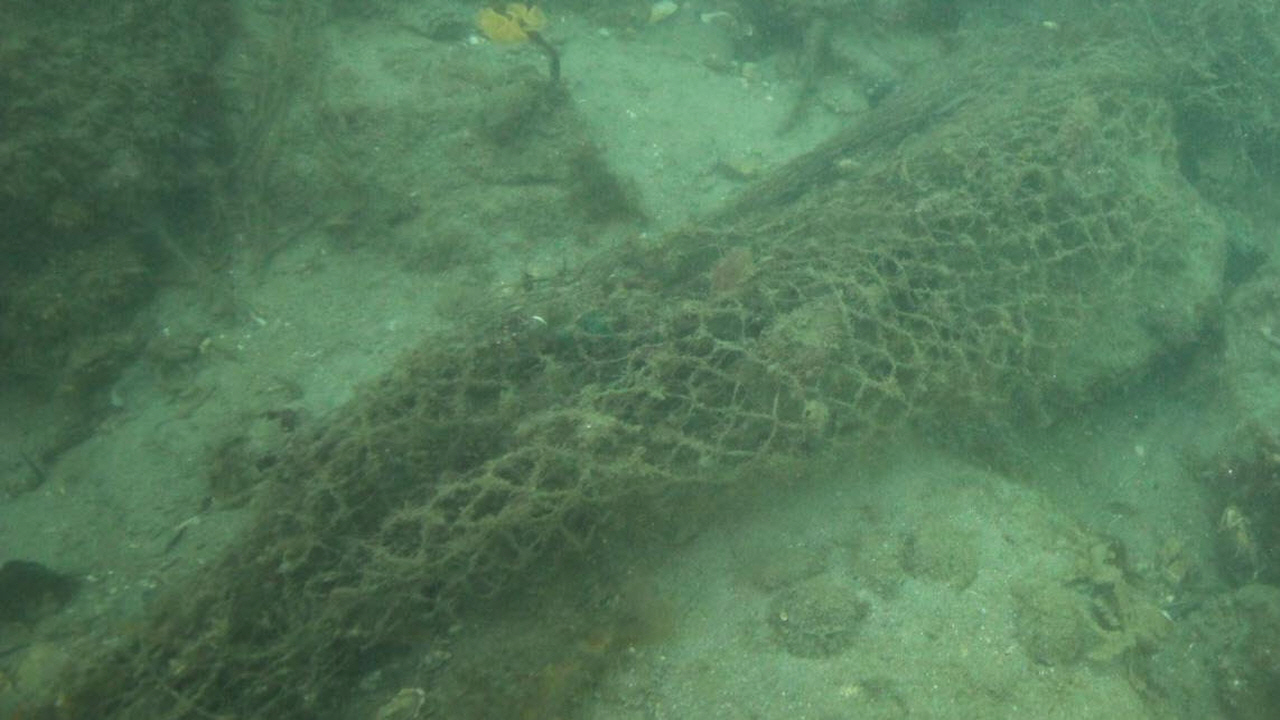fish net: (40, 0, 1280, 720)
